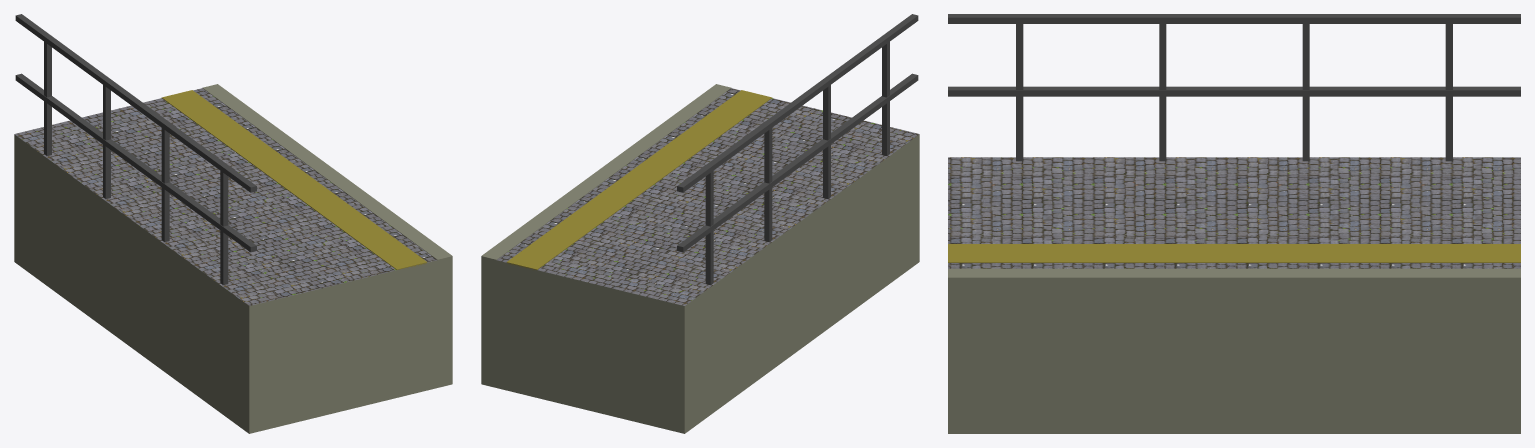
File: lrt_platform.fbx
3 views of the same model, side by side, from view 1: azimuth 30°, elevation 25°; view 2: azimuth 150°, elevation 25°; view 3: azimuth 270°, elevation 25° (orthographic). The views are drawn at different scales.
Visible parts, largest first — view 1: lrt_platform.002; view 2: lrt_platform.002; view 3: lrt_platform.002.
Boxes of the visible parts, box(x1,y1,x2,y2) form: lrt_platform.002: box(14, 14, 452, 433); lrt_platform.002: box(481, 14, 919, 433); lrt_platform.002: box(948, 14, 1520, 433).
Size of the model in its own units: 2 by 2.31 by 4.
